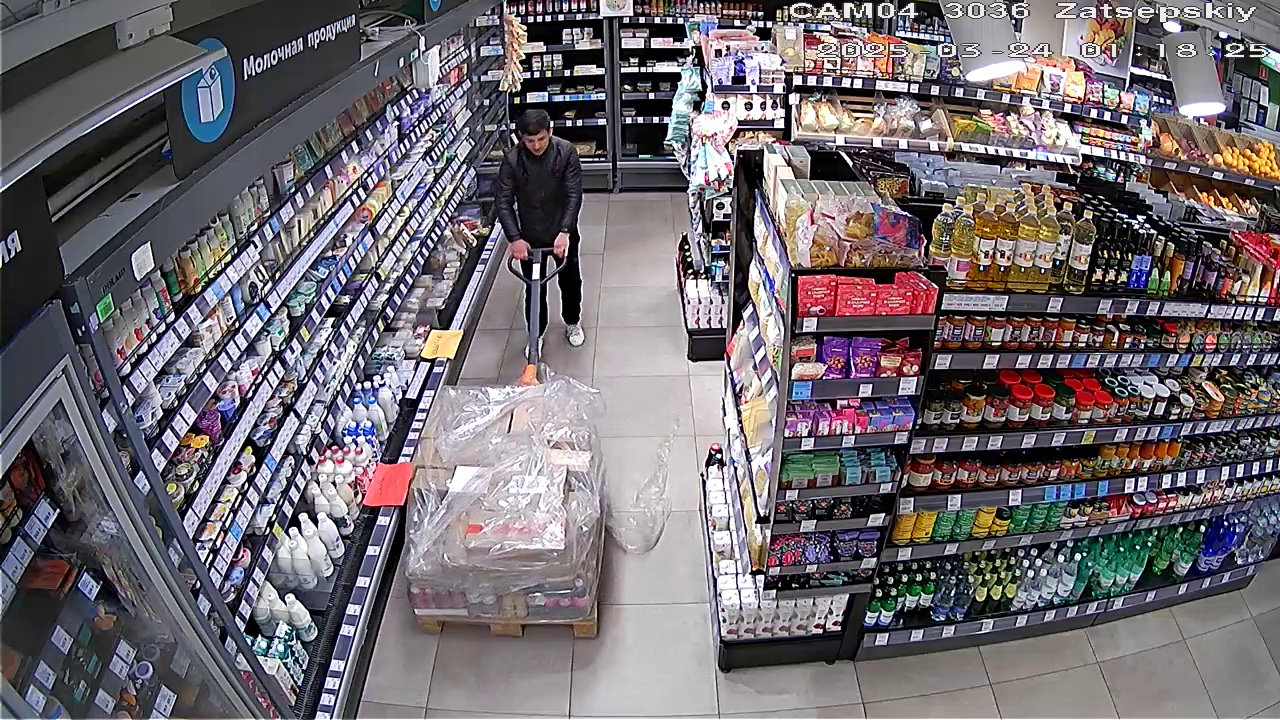Human: (475, 108, 588, 361)
pallet: (404, 376, 609, 637)
